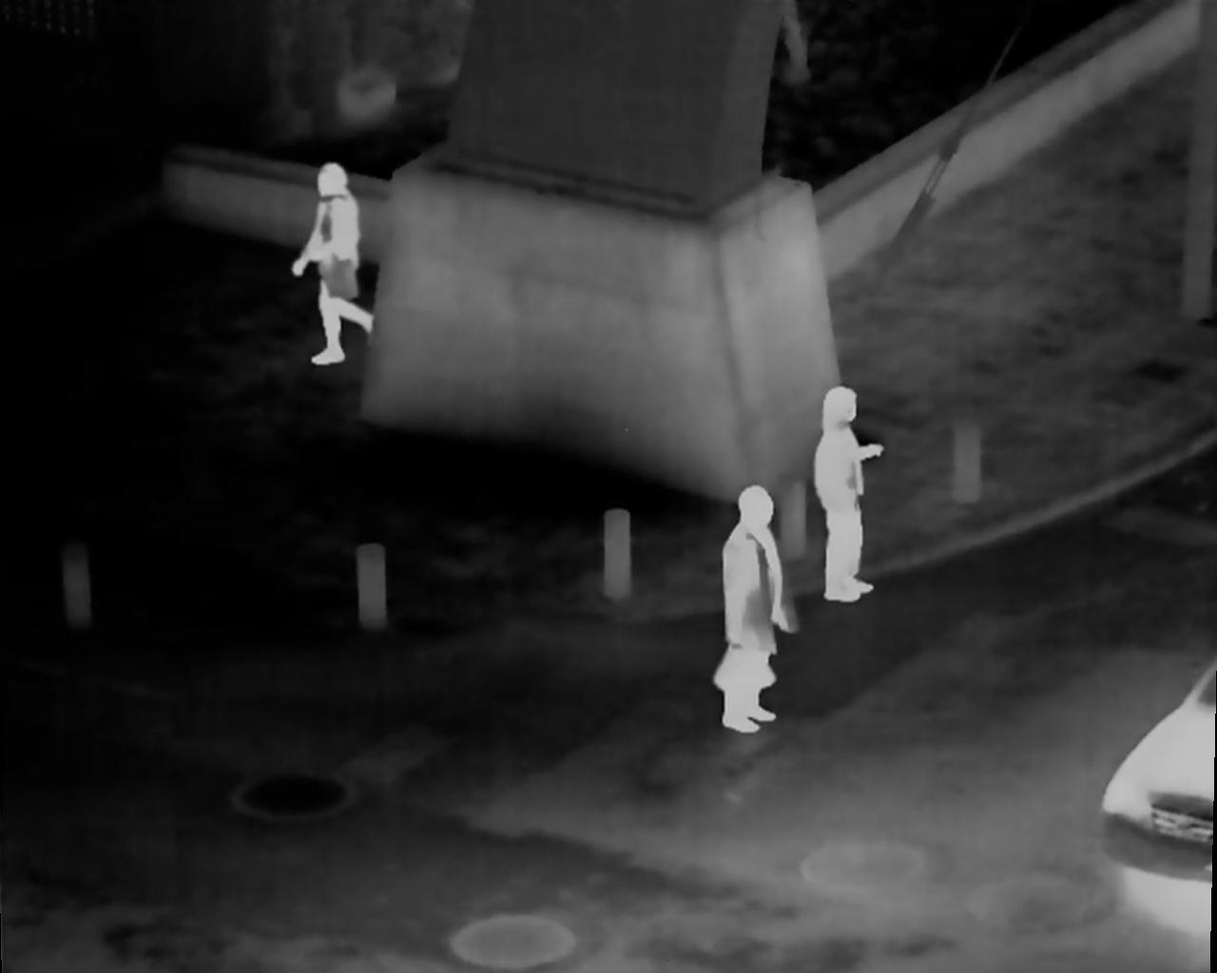person: (713, 485, 795, 734), (287, 162, 377, 364), (812, 389, 882, 601)
